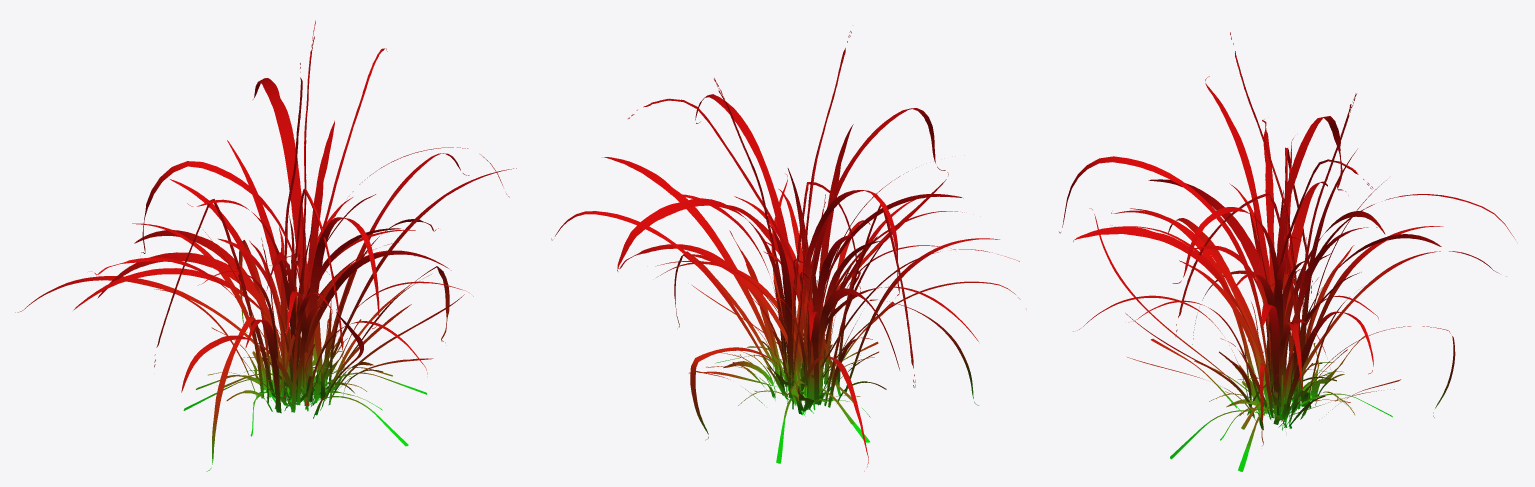
The model's file is grass_03.fbx.
3 renders of one model, left to right at view 1: azimuth 30°, elevation 25°; view 2: azimuth 150°, elevation 25°; view 3: azimuth 270°, elevation 25°, orthographic. The views are drawn at different scales.
Parts seen in each view (by area): view 1: _1dao_Var1_LOD0; view 2: _1dao_Var1_LOD0; view 3: _1dao_Var1_LOD0.
Boxes of the visible parts, left/top/right/bottom form: _1dao_Var1_LOD0: left=15, top=20, right=516, bottom=471; _1dao_Var1_LOD0: left=551, top=31, right=1020, bottom=471; _1dao_Var1_LOD0: left=1059, top=32, right=1515, bottom=471.
Bounding box in the file's own units: 122 × 106 × 110.
